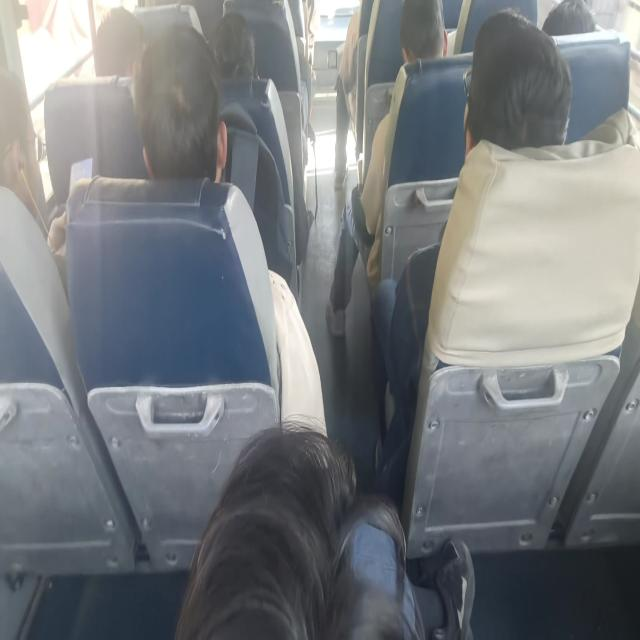person: (145, 49, 234, 182), (488, 45, 584, 161), (0, 55, 52, 173), (212, 9, 256, 82), (402, 0, 448, 58), (86, 23, 142, 69), (546, 0, 604, 36)
